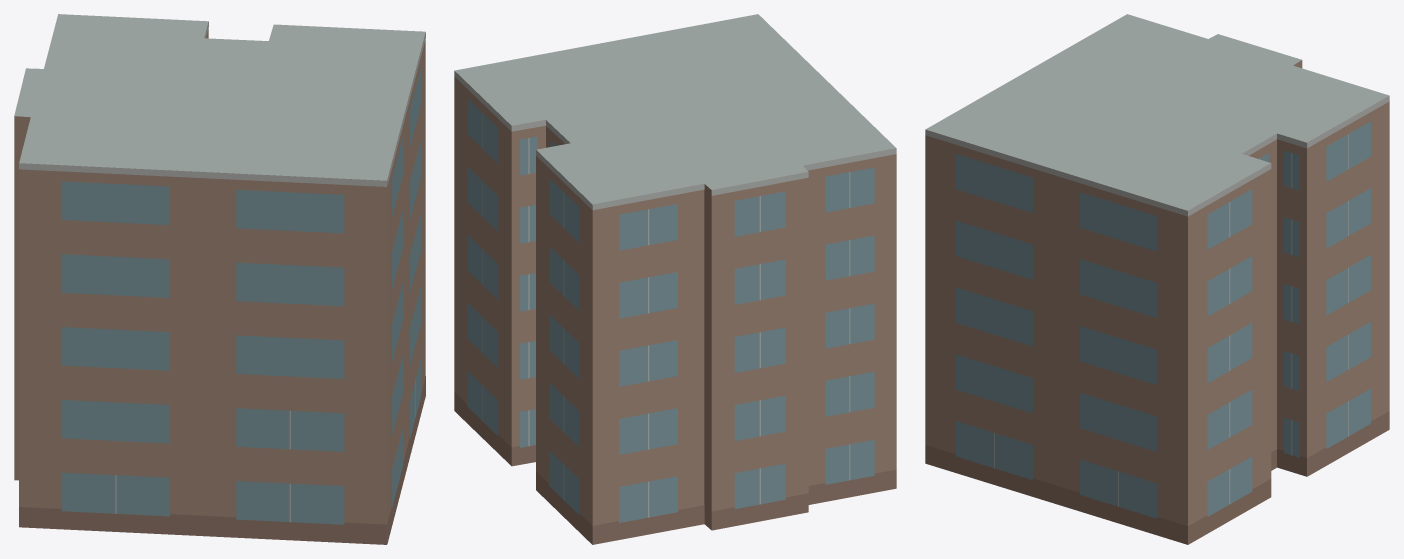
Rendered from survey-upis-32610255.glb.
The picture shows the model from 3 angles, left to right: view 1: azimuth 30°, elevation 25°; view 2: azimuth 150°, elevation 25°; view 3: azimuth 270°, elevation 25°; orthographic projection. The views are drawn at different scales.
Parts seen in each view (by area): view 1: survey-upis-32610255.tmp; view 2: survey-upis-32610255.tmp; view 3: survey-upis-32610255.tmp.
Boxes of the visible parts, x1,y1,x2,y2 form: survey-upis-32610255.tmp: (14, 14, 425, 544); survey-upis-32610255.tmp: (454, 14, 896, 544); survey-upis-32610255.tmp: (925, 14, 1389, 544).
Bounding box in the file's own units: 18.09 × 14.3 × 18.03.
